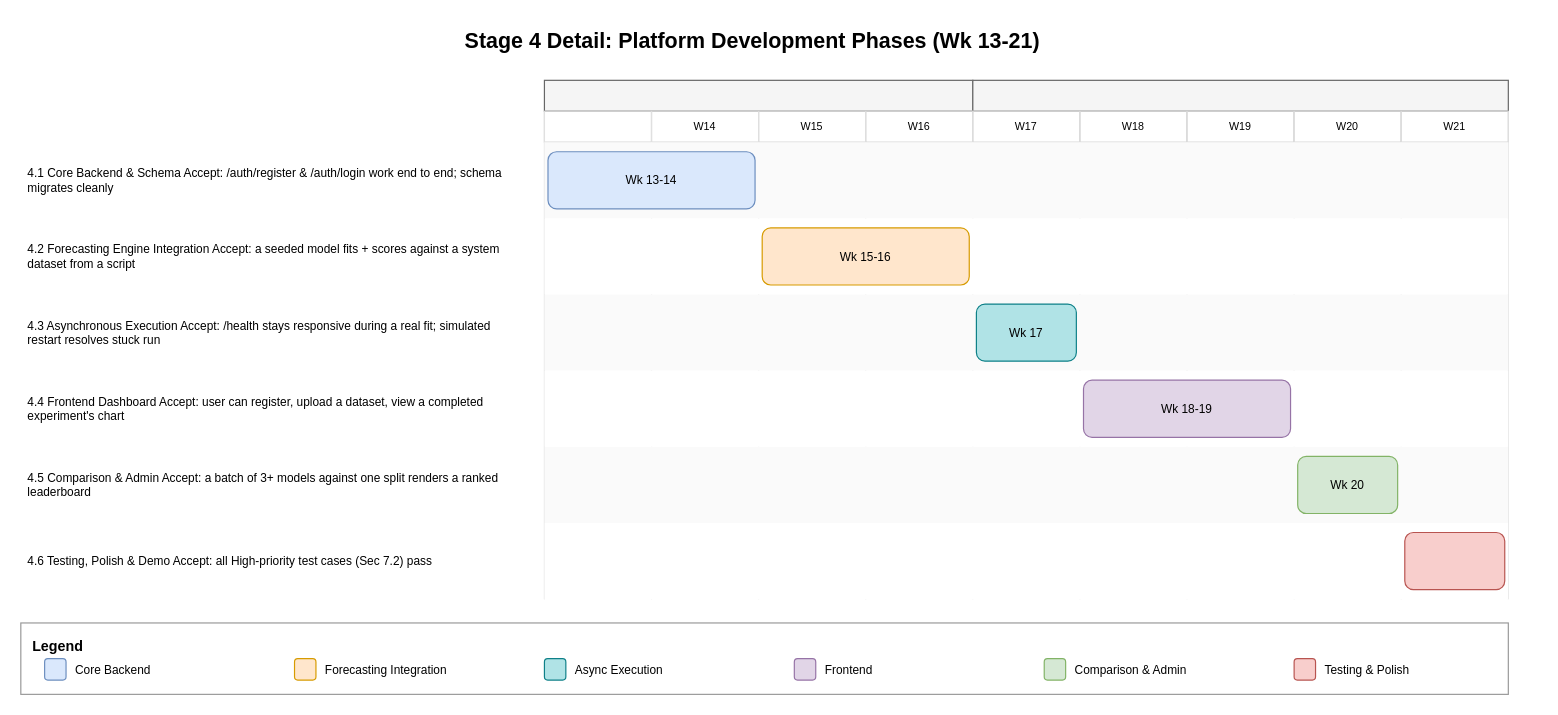
Some shapes in this 1558 by 715 pixel diagram are drawn without their labels. The shapes that lost their labels are listed below. From the top down, each one's centre as x and y in pixels, then its label:
At (x=758, y=95): "Month 4".
At (x=1240, y=95): "Month 5".
At (x=597, y=126): "W13".
At (x=1454, y=560): "Wk 21".
